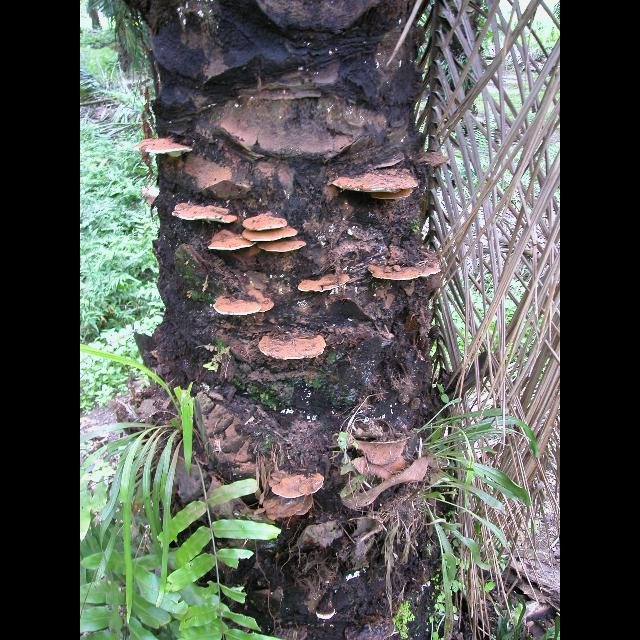ganoderma: (258, 325, 327, 362), (333, 166, 419, 194), (214, 284, 275, 317), (368, 259, 443, 282), (243, 212, 299, 242), (269, 471, 325, 499), (264, 495, 315, 521), (173, 204, 238, 224), (133, 138, 194, 158), (299, 272, 351, 294), (208, 231, 258, 252), (409, 153, 453, 169), (261, 239, 307, 254), (371, 188, 414, 200)
